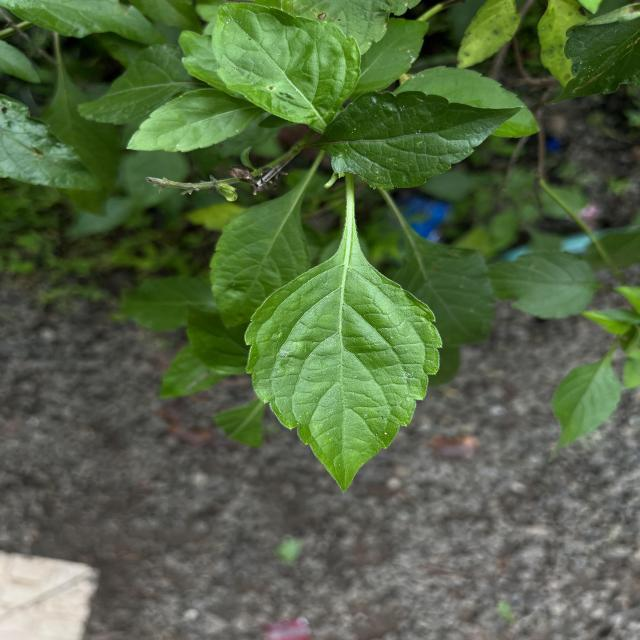Ocimum gratissimum: (242, 234, 447, 496), (317, 88, 527, 192)
